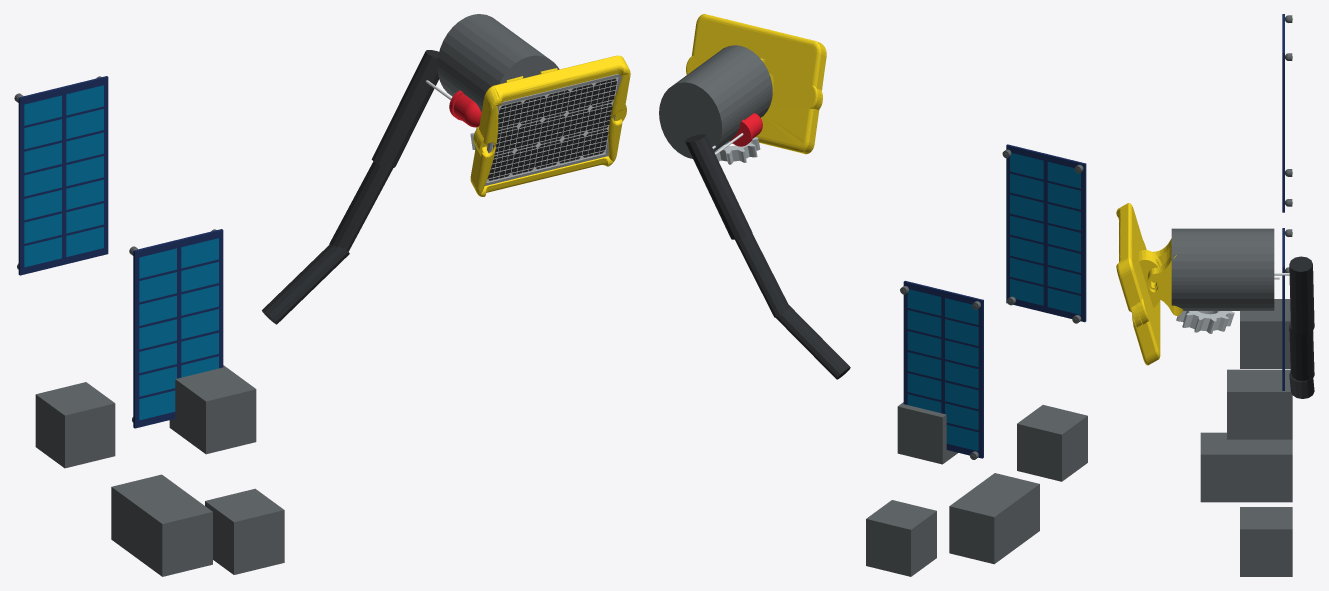
The model's file is input.obj.
The picture shows the model from 3 angles, left to right: view 1: azimuth 30°, elevation 25°; view 2: azimuth 150°, elevation 25°; view 3: azimuth 270°, elevation 25°; orthographic projection. The views are drawn at different scales.
Visible parts, largest first — view 1: group_0_6383466, group_0_30377, group_0_2829873, group_0_1650274, group_0_16768282, group_0_16448250, group_0_10988977, group_0_15277357; view 2: group_0_6383466, group_0_30377, group_0_16768282, group_0_1650274, group_0_2829873, group_0_12568524, group_0_15277357; view 3: group_0_6383466, group_0_16768282, group_0_2829873, group_0_1650274, group_0_12568524.
Part boxes in pixels (x1,y1,x2,y2): group_0_6383466: (14,14,559,576); group_0_30377: (24,85,218,420); group_0_2829873: (262,50,616,324); group_0_1650274: (18,76,223,428); group_0_16768282: (470,55,630,196); group_0_16448250: (486,77,618,182); group_0_10988977: (485,74,621,185); group_0_15277357: (449,90,481,127); group_0_6383466: (659,45,1087,576); group_0_30377: (907,153,1080,451); group_0_16768282: (686,14,826,154); group_0_1650274: (903,144,1086,458); group_0_2829873: (684,134,850,379); group_0_12568524: (714,137,760,164); group_0_15277357: (730,113,762,146); group_0_6383466: (1171,15,1292,576); group_0_16768282: (1116,203,1183,365); group_0_2829873: (1289,256,1314,398); group_0_1650274: (1282,14,1284,390); group_0_12568524: (1176,311,1234,333).
Size of the model in its own units: 208 by 192 by 75.31.
